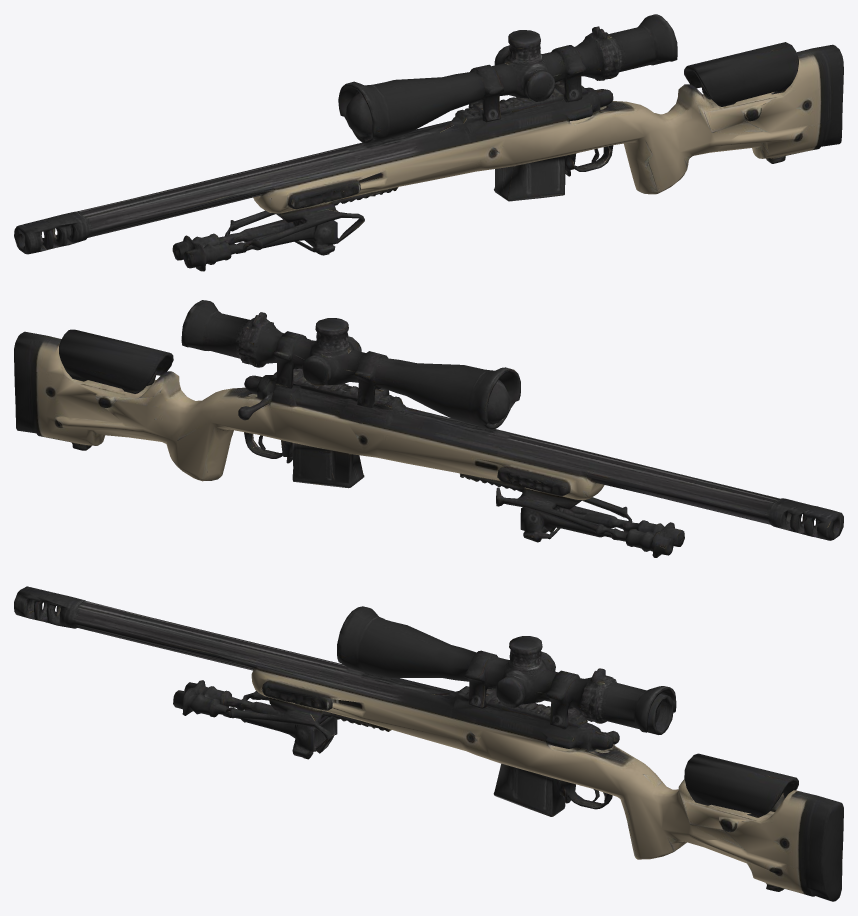
Rendered from wpn_sniper.glb.
3 views of the same model, one above another, from view 1: azimuth 30°, elevation 25°; view 2: azimuth 150°, elevation 25°; view 3: azimuth 330°, elevation 25° (orthographic).
Parts seen in each view (by area): view 1: Mesh_0; view 2: Mesh_0; view 3: Mesh_0.
Boxes of the visible parts, left/top/right/bottom form: Mesh_0: left=14, top=14, right=843, bottom=271; Mesh_0: left=14, top=300, right=843, bottom=557; Mesh_0: left=14, top=586, right=843, bottom=901.
Size of the model in its own units: 1.9 by 0.4111 by 0.1656.
1 material, 1 textured.
